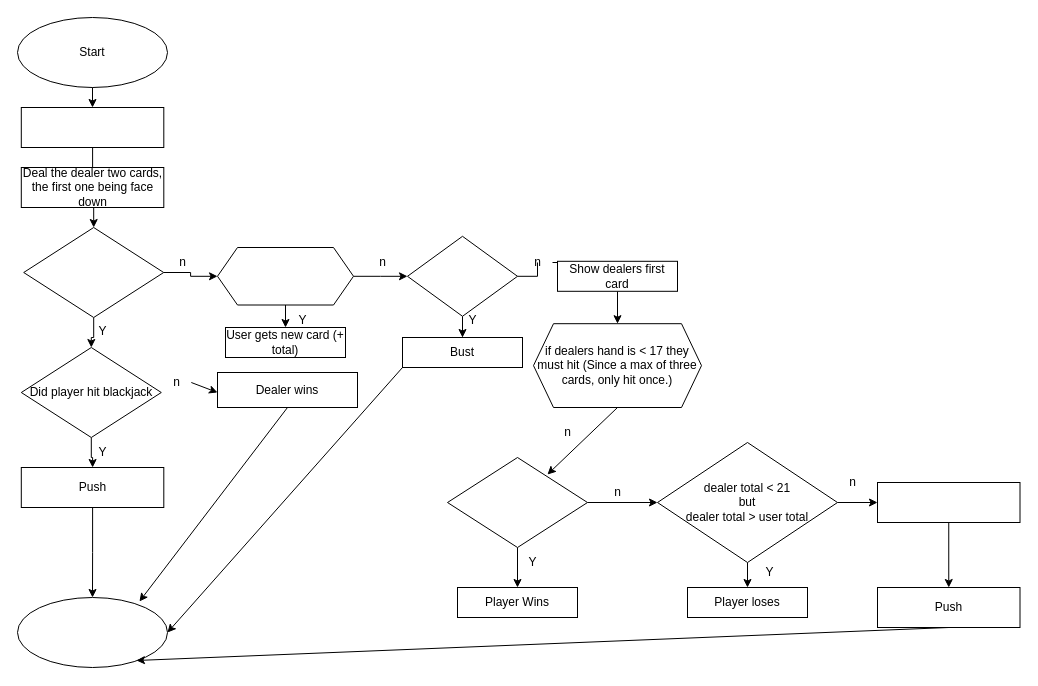
The diagram is 1038 pixels wide and 686 high, and some of its shapes have lost their labels. The centre of each missing label's shape, as x and y in pixels:
"Deal first two cards to player1" goes at (x=92, y=127).
"dealer total > 21 but user total <= 21" goes at (x=517, y=502).
"Did dealer hit blackjack" goes at (x=93, y=272).
"if user hand is < 21 they can hit" goes at (x=285, y=275).
"player total = dealer total" goes at (x=948, y=502).
"Stop" goes at (x=92, y=632).
"User total > 21" goes at (x=462, y=275).
